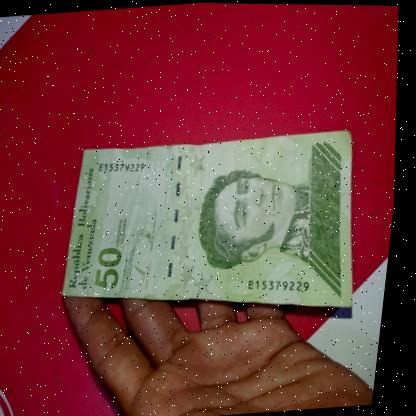fifty-front-vef: (51, 123, 375, 332)
